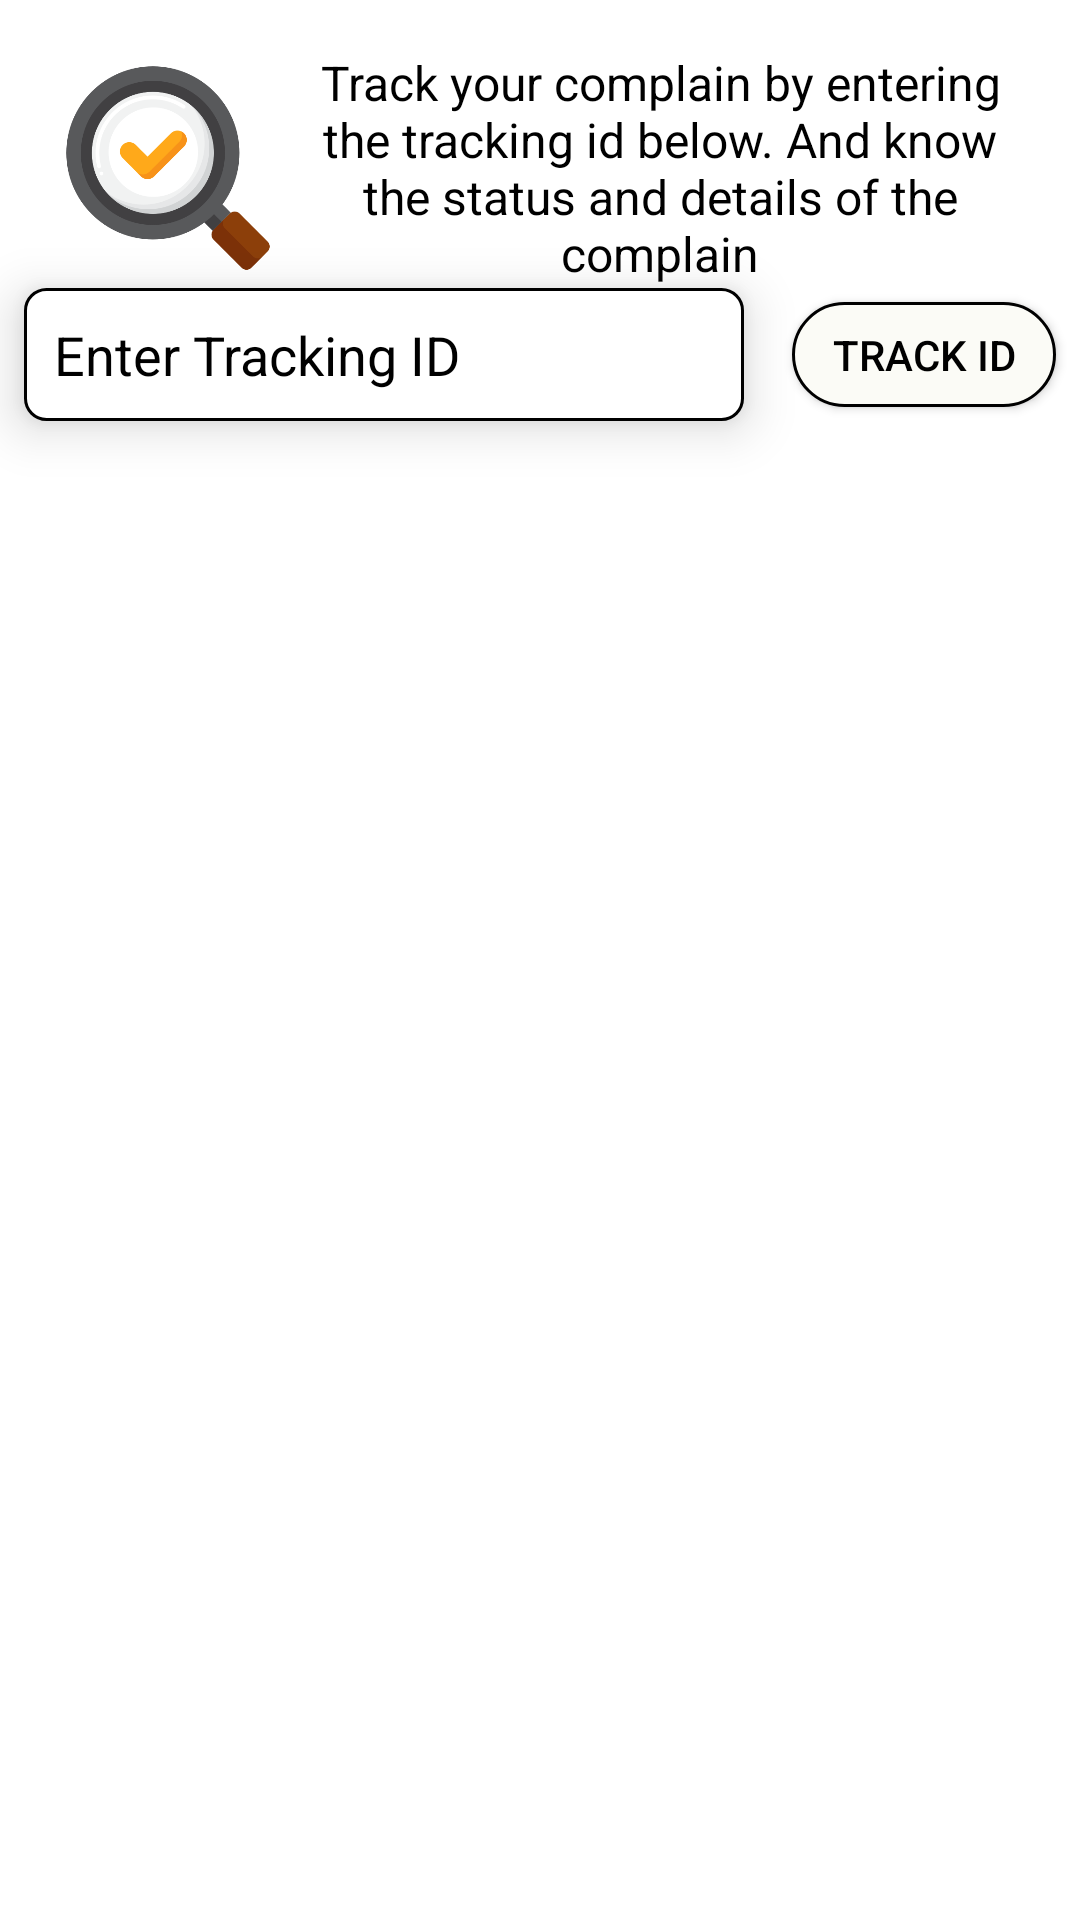

Screen size 1080 x 1920. Icon name, then its center in pixels as (x=x, y=y):
find: (x=168, y=168)
